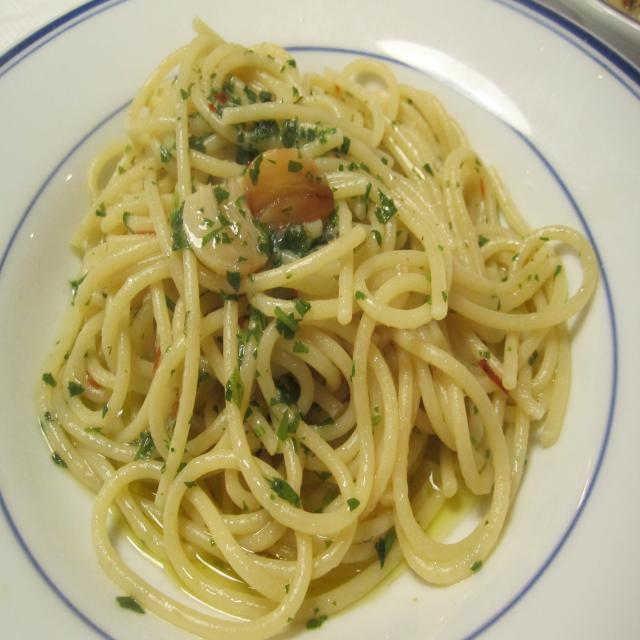Oil pasta: (41, 50, 623, 624)
